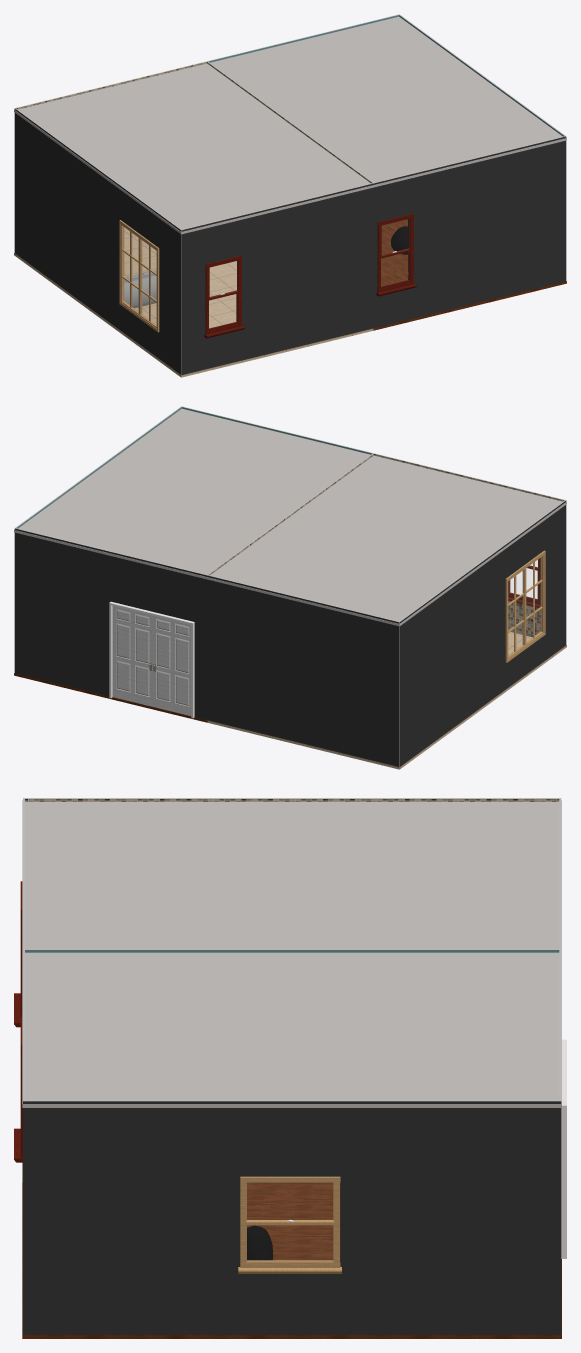
Rendered from ProcTHOR-Train-189.glb.
3 views of the same model, one above another, from view 1: azimuth 30°, elevation 25°; view 2: azimuth 150°, elevation 25°; view 3: azimuth 270°, elevation 25° (orthographic). The views are drawn at different scales.
Visible parts, largest first — view 1: Ceiling#room|3|c, Ceiling#room|2|c, WallInside#wall|exterior|0.00|6.57|4.38|6.57, WallInside#wall|exterior|4.38|6.57|8.76|6.57, WallInside#wall|exterior|8.76|0.00|8.76|6.57, Floor#room|3|f, Window_Hung_32x60 (×2), Window_Fixed_60x72, Floor#room|2|f, Sofa_227_1, WallInside#wall|2|0.00|0.00|4.38|0.00, WallInside#wall|3|4.38|0.00|8.76|0.00 (+2 smaller); view 2: Ceiling#room|3|c, Ceiling#room|2|c, WallInside#wall|exterior|4.38|0.00|8.76|0.00, WallInside#wall|exterior|8.76|0.00|8.76|6.57, WallInside#wall|exterior|0.00|0.00|4.38|0.00, Doorway_Door_2b, Doorway_Door_2a, Window_Fixed_60x72, Floor#room|3|f, WallInside#wall|3|4.38|6.57|8.76|6.57, Doorway_Double_2, Floor#room|2|f (+3 smaller); view 3: WallInside#wall|exterior|0.00|0.00|0.00|6.57, Ceiling#room|2|c, Ceiling#room|3|c, Floor#room|2|f, Window_Hung_48x44, WallInside#wall|3|8.76|0.00|8.76|6.57, WallInside#wall|2|4.38|0.00|4.38|6.57, Doorway_Double_2, GarbageBag_21_1.
Boxes of the visible parts, x1=… form: Ceiling#room|3|c: x1=14, y1=63, x2=373, y2=234; Ceiling#room|2|c: x1=207, y1=16, x2=566, y2=187; WallInside#wall|exterior|0.00|6.57|4.38|6.57: x1=373, y1=136, x2=566, y2=327; WallInside#wall|exterior|4.38|6.57|8.76|6.57: x1=181, y1=183, x2=374, y2=374; WallInside#wall|exterior|8.76|0.00|8.76|6.57: x1=14, y1=108, x2=181, y2=374; Floor#room|3|f: x1=14, y1=227, x2=374, y2=377; Window_Hung_32x60 (×2): x1=204, y1=213, x2=416, y2=338; Window_Fixed_60x72: x1=119, y1=220, x2=159, y2=332; Floor#room|2|f: x1=373, y1=219, x2=566, y2=330; Sofa_227_1: x1=124, y1=270, x2=156, y2=308; WallInside#wall|2|0.00|0.00|4.38|0.00: x1=208, y1=15, x2=398, y2=62; WallInside#wall|3|4.38|0.00|8.76|0.00: x1=16, y1=61, x2=206, y2=109; Ceiling#room|3|c: x1=206, y1=455, x2=566, y2=626; Ceiling#room|2|c: x1=14, y1=408, x2=373, y2=579; WallInside#wall|exterior|4.38|0.00|8.76|0.00: x1=206, y1=575, x2=399, y2=766; WallInside#wall|exterior|8.76|0.00|8.76|6.57: x1=399, y1=500, x2=566, y2=766; WallInside#wall|exterior|0.00|0.00|4.38|0.00: x1=14, y1=528, x2=207, y2=719; Doorway_Door_2b: x1=112, y1=606, x2=152, y2=706; Doorway_Door_2a: x1=153, y1=615, x2=191, y2=715; Window_Fixed_60x72: x1=505, y1=550, x2=545, y2=662; Floor#room|3|f: x1=206, y1=632, x2=566, y2=769; WallInside#wall|3|4.38|6.57|8.76|6.57: x1=374, y1=453, x2=565, y2=637; Doorway_Double_2: x1=109, y1=601, x2=194, y2=718; Floor#room|2|f: x1=14, y1=673, x2=207, y2=722; WallInside#wall|exterior|0.00|0.00|0.00|6.57: x1=23, y1=1101, x2=561, y2=1334; Ceiling#room|2|c: x1=22, y1=953, x2=561, y2=1107; Ceiling#room|3|c: x1=22, y1=800, x2=561, y2=952; Floor#room|2|f: x1=22, y1=1182, x2=561, y2=1338; Window_Hung_48x44: x1=238, y1=1176, x2=341, y2=1273; WallInside#wall|3|8.76|0.00|8.76|6.57: x1=23, y1=798, x2=560, y2=801; WallInside#wall|2|4.38|0.00|4.38|6.57: x1=25, y1=949, x2=559, y2=952; Doorway_Double_2: x1=561, y1=1039, x2=566, y2=1258; GarbageBag_21_1: x1=247, y1=1225, x2=273, y2=1260.
Size of what is drawn, in the model's own units: 8.92 by 3.21 by 6.77.
Materials: 121 (49 with a texture image).
